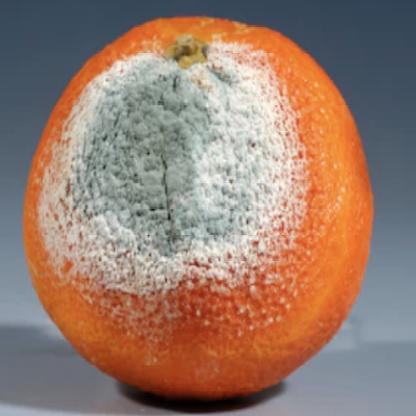rotten: (28, 13, 375, 398)
